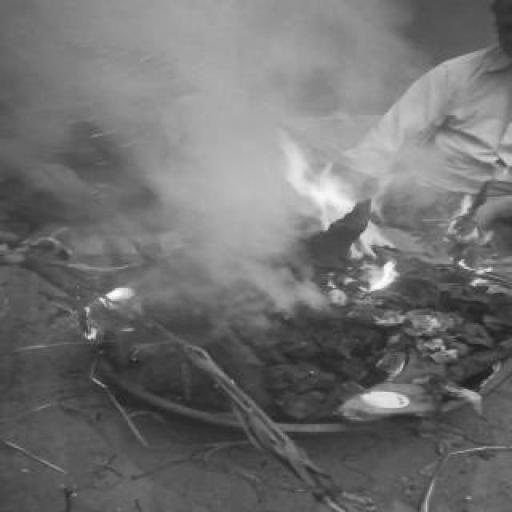smoke: (6, 2, 458, 140), (138, 141, 284, 309), (3, 142, 138, 280), (275, 126, 389, 264), (446, 203, 509, 293), (61, 278, 141, 344), (363, 258, 402, 300)
